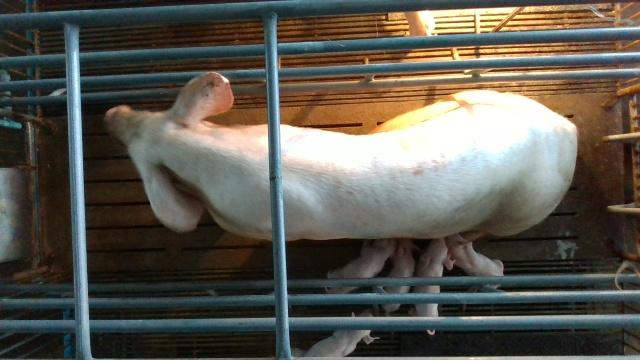piglet: (300, 310, 380, 360), (325, 237, 394, 293), (415, 240, 452, 335), (447, 237, 505, 288), (380, 239, 420, 311)
sow-sit: (103, 72, 576, 237)
